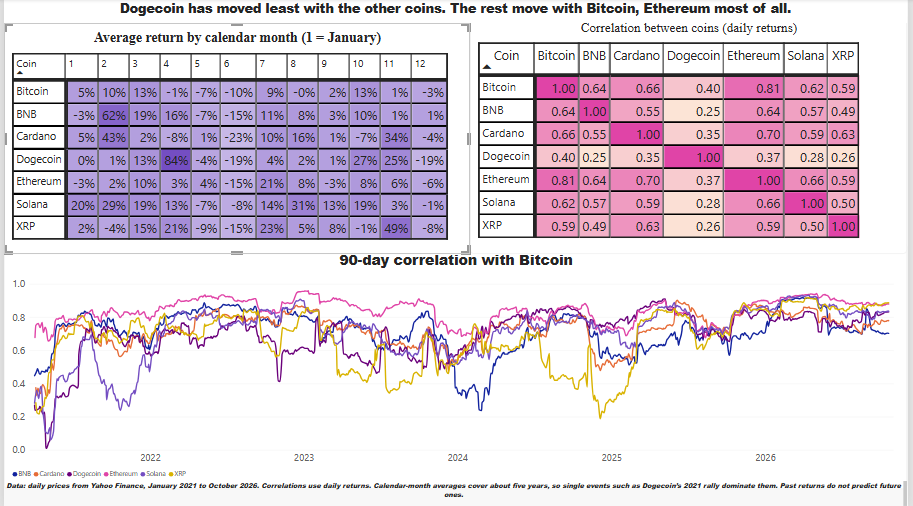

The dashboard page shown, as its layout file describes it:
{"tool":"powerbi","page":{"name":"Page 2","canvas":[1920,1080],"ordinal":1},"visuals":[{"type":"lineChart","title":"90-day correlation with Bitcoin","fields":{"Category":["rolling_corr_btc.date"],"Series":["coins.coin"],"Y":["Avg(rolling_corr_btc.corr_90d_btc)"]},"box":[0,518.7,1919.8,523],"z":0},{"type":"pivotTable","title":"Correlation between coins (daily returns)","fields":{"Columns":["correlation.coin_b"],"Rows":["correlation.coin_a"],"Values":["Avg(correlation.correlation)"]},"box":[990.7,29.8,929.1,512.4],"z":1000},{"type":"pivotTable","title":"Average return by calendar month (1 = January)","fields":{"Columns":["monthly_returns.month"],"Rows":["monthly_returns.coin"],"Values":["Avg(monthly_returns.monthly_return)"]},"box":[0,51,990.7,491.1],"z":2000},{"type":"textbox","box":[0,1024.7,1919.8,55.3],"z":2001},{"type":"textbox","box":[0,0,1919.8,51],"z":2002},{"type":"textbox","box":[100,100,300,300],"z":2003}]}

Visuals, with their boxes in screenshot pixels (x1, y1, x2, y2), scaled from the page's 1920x1080 canvas onto the 913x506 screenshot:
"90-day correlation with Bitcoin" lineChart: (x1=0, y1=243, x2=912, y2=488)
"Correlation between coins (daily returns)" pivotTable: (x1=471, y1=14, x2=912, y2=254)
"Average return by calendar month (1 = January)" pivotTable: (x1=0, y1=24, x2=471, y2=254)
textbox: (x1=0, y1=480, x2=912, y2=505)
textbox: (x1=0, y1=0, x2=912, y2=24)
textbox: (x1=48, y1=47, x2=190, y2=187)
